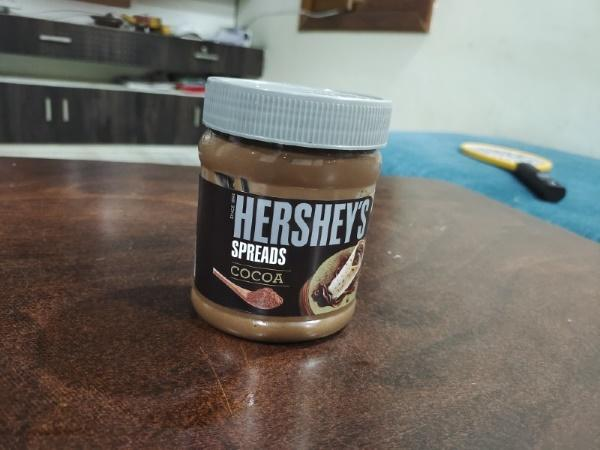Hershey-s: (185, 68, 394, 356)
